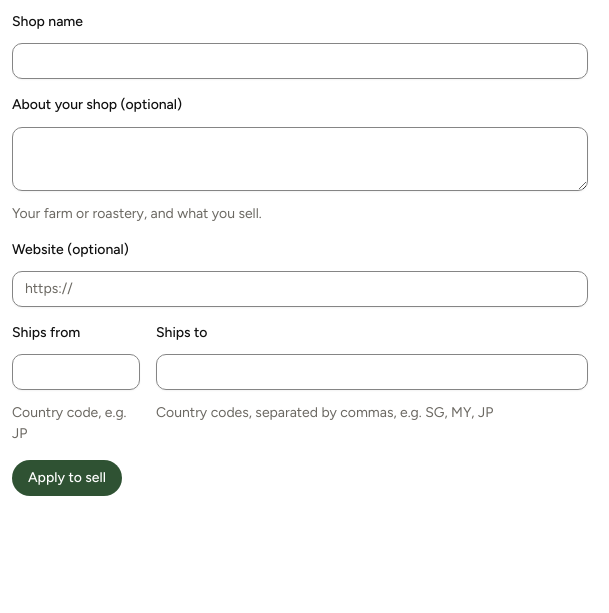
Test: VendorForm › explains what is missing instead of sending a bad application
Click the button "Apply to sell". click: point(67, 478)
box: [12,460,122,496]
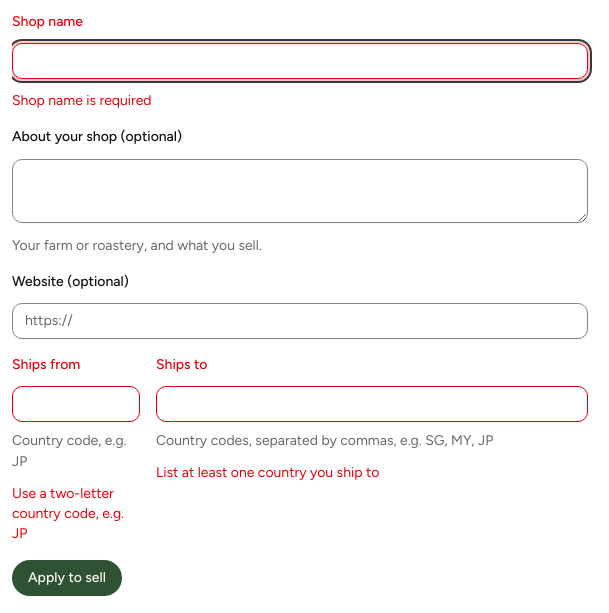
Check: the text "Shop name is required" is shown, box [12,92,152,109]
Check: the text "Use a two-letter country code, e.g. JP" is shown, box [12,484,140,544]
Check: the text "List at least one country you ship to" is shown, box [156,464,379,481]
